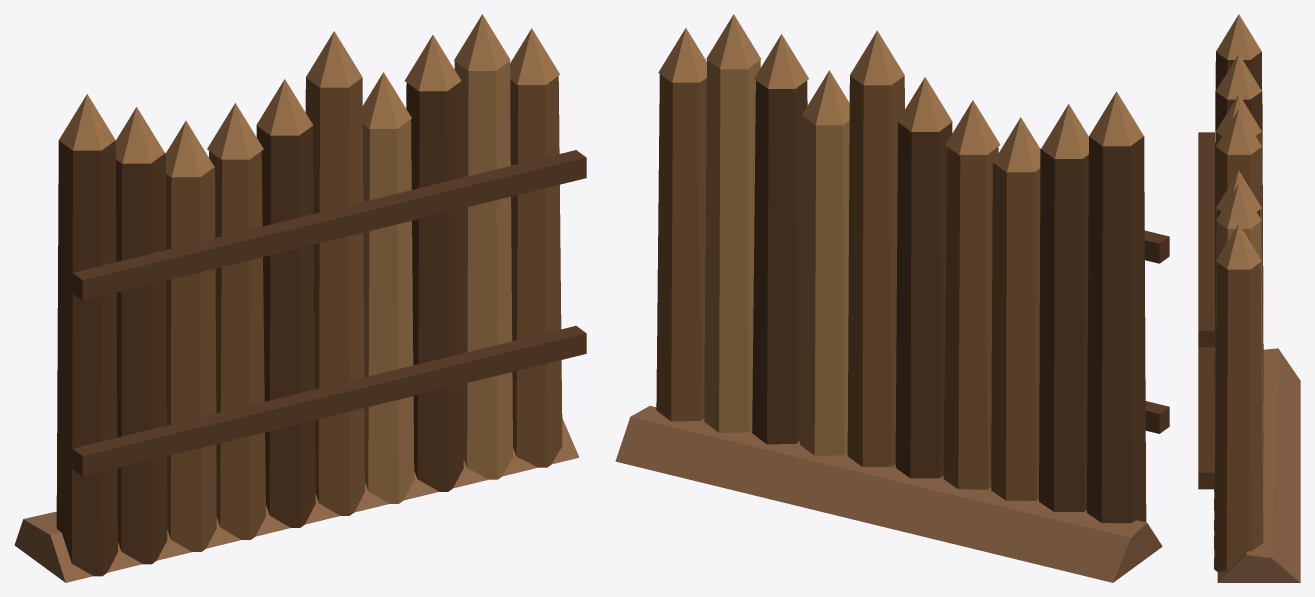
Rendered from SM_YardPalisade.fbx.
3 views of the same model, side by side, from view 1: azimuth 30°, elevation 25°; view 2: azimuth 150°, elevation 25°; view 3: azimuth 270°, elevation 25° (orthographic). The views are drawn at different scales.
Parts seen in each view (by area): view 1: SM_YardPalisade; view 2: SM_YardPalisade; view 3: SM_YardPalisade.
Boxes of the visible parts, x1=… form: SM_YardPalisade: x1=14, y1=14, x2=586, y2=582; SM_YardPalisade: x1=615, y1=14, x2=1169, y2=582; SM_YardPalisade: x1=1198, y1=14, x2=1300, y2=582.
Bounding box in the file's own units: 5.28 × 1.11 × 4.58.
